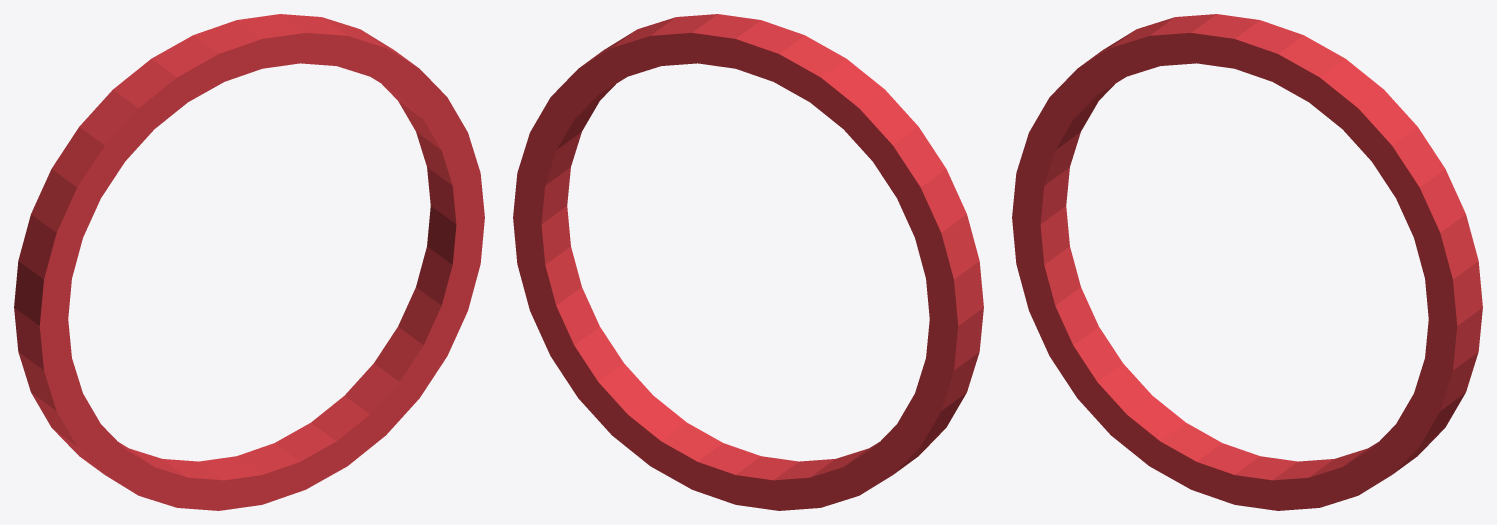
3 views of the same model, side by side, from view 1: azimuth 30°, elevation 25°; view 2: azimuth 150°, elevation 25°; view 3: azimuth 330°, elevation 25° (orthographic).
Visible parts, largest first — view 1: Cylinder; view 2: Cylinder; view 3: Cylinder.
Part boxes in pixels (bbox=[...]): Cylinder: bbox=[14, 14, 484, 510]; Cylinder: bbox=[513, 14, 983, 510]; Cylinder: bbox=[1012, 14, 1482, 510].
Size of the model in its own units: 200 by 200 by 20.
